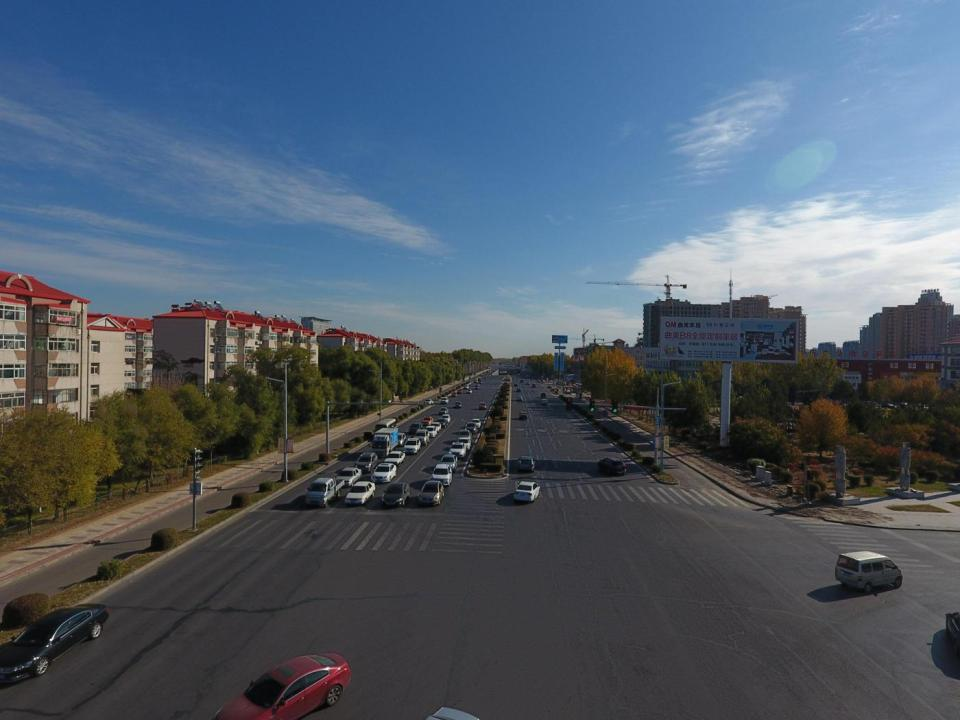bus: (372, 418, 396, 439), (486, 370, 488, 373)
car: (202, 653, 349, 720), (0, 601, 109, 687), (345, 481, 375, 505), (418, 480, 444, 507), (380, 482, 409, 506), (596, 456, 626, 477), (514, 480, 540, 503), (352, 452, 378, 473), (430, 464, 453, 487), (336, 467, 362, 487), (371, 463, 397, 483), (437, 454, 458, 472), (384, 450, 405, 467), (448, 442, 466, 459), (517, 456, 536, 472), (403, 438, 421, 454), (412, 429, 429, 445), (389, 433, 406, 446), (458, 429, 471, 442), (464, 422, 477, 434), (409, 422, 422, 434), (898, 401, 915, 410), (458, 437, 470, 449), (435, 418, 448, 428), (425, 426, 436, 437), (430, 422, 442, 432), (880, 403, 896, 410), (471, 418, 481, 428), (440, 414, 451, 423), (421, 416, 433, 424), (867, 401, 880, 407), (439, 406, 448, 414), (518, 412, 528, 419), (440, 396, 448, 404), (541, 398, 548, 406), (454, 401, 461, 409), (478, 403, 486, 410), (424, 399, 433, 405), (452, 391, 458, 397), (539, 393, 546, 398), (516, 396, 522, 401), (466, 388, 472, 393), (567, 378, 575, 381), (558, 382, 565, 385), (464, 384, 469, 388), (457, 390, 463, 393), (516, 388, 520, 392), (532, 384, 536, 388), (514, 383, 518, 387), (526, 381, 530, 385), (473, 379, 477, 383), (474, 385, 478, 389), (476, 383, 480, 386), (520, 380, 524, 382), (483, 372, 485, 375), (479, 381, 482, 383), (483, 372, 485, 374), (481, 373, 483, 375)
truck: (306, 478, 344, 506), (371, 428, 398, 457)
van: (833, 548, 902, 594), (478, 377, 481, 381)
